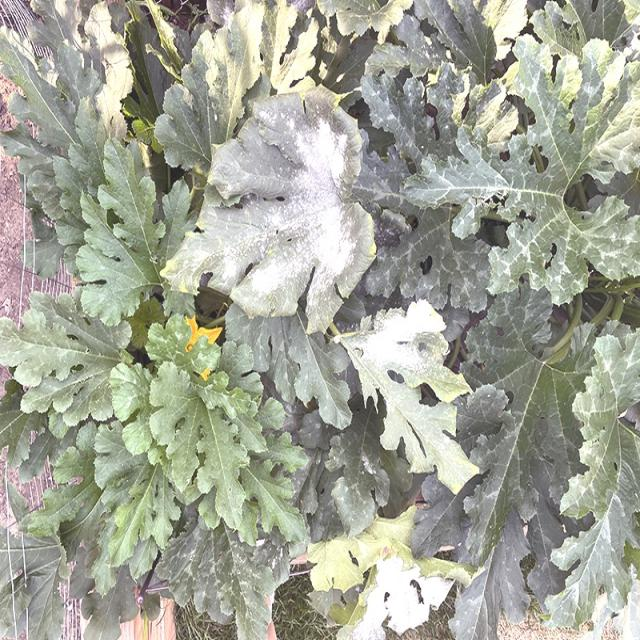Powdery Mildew: (159, 84, 378, 335)
